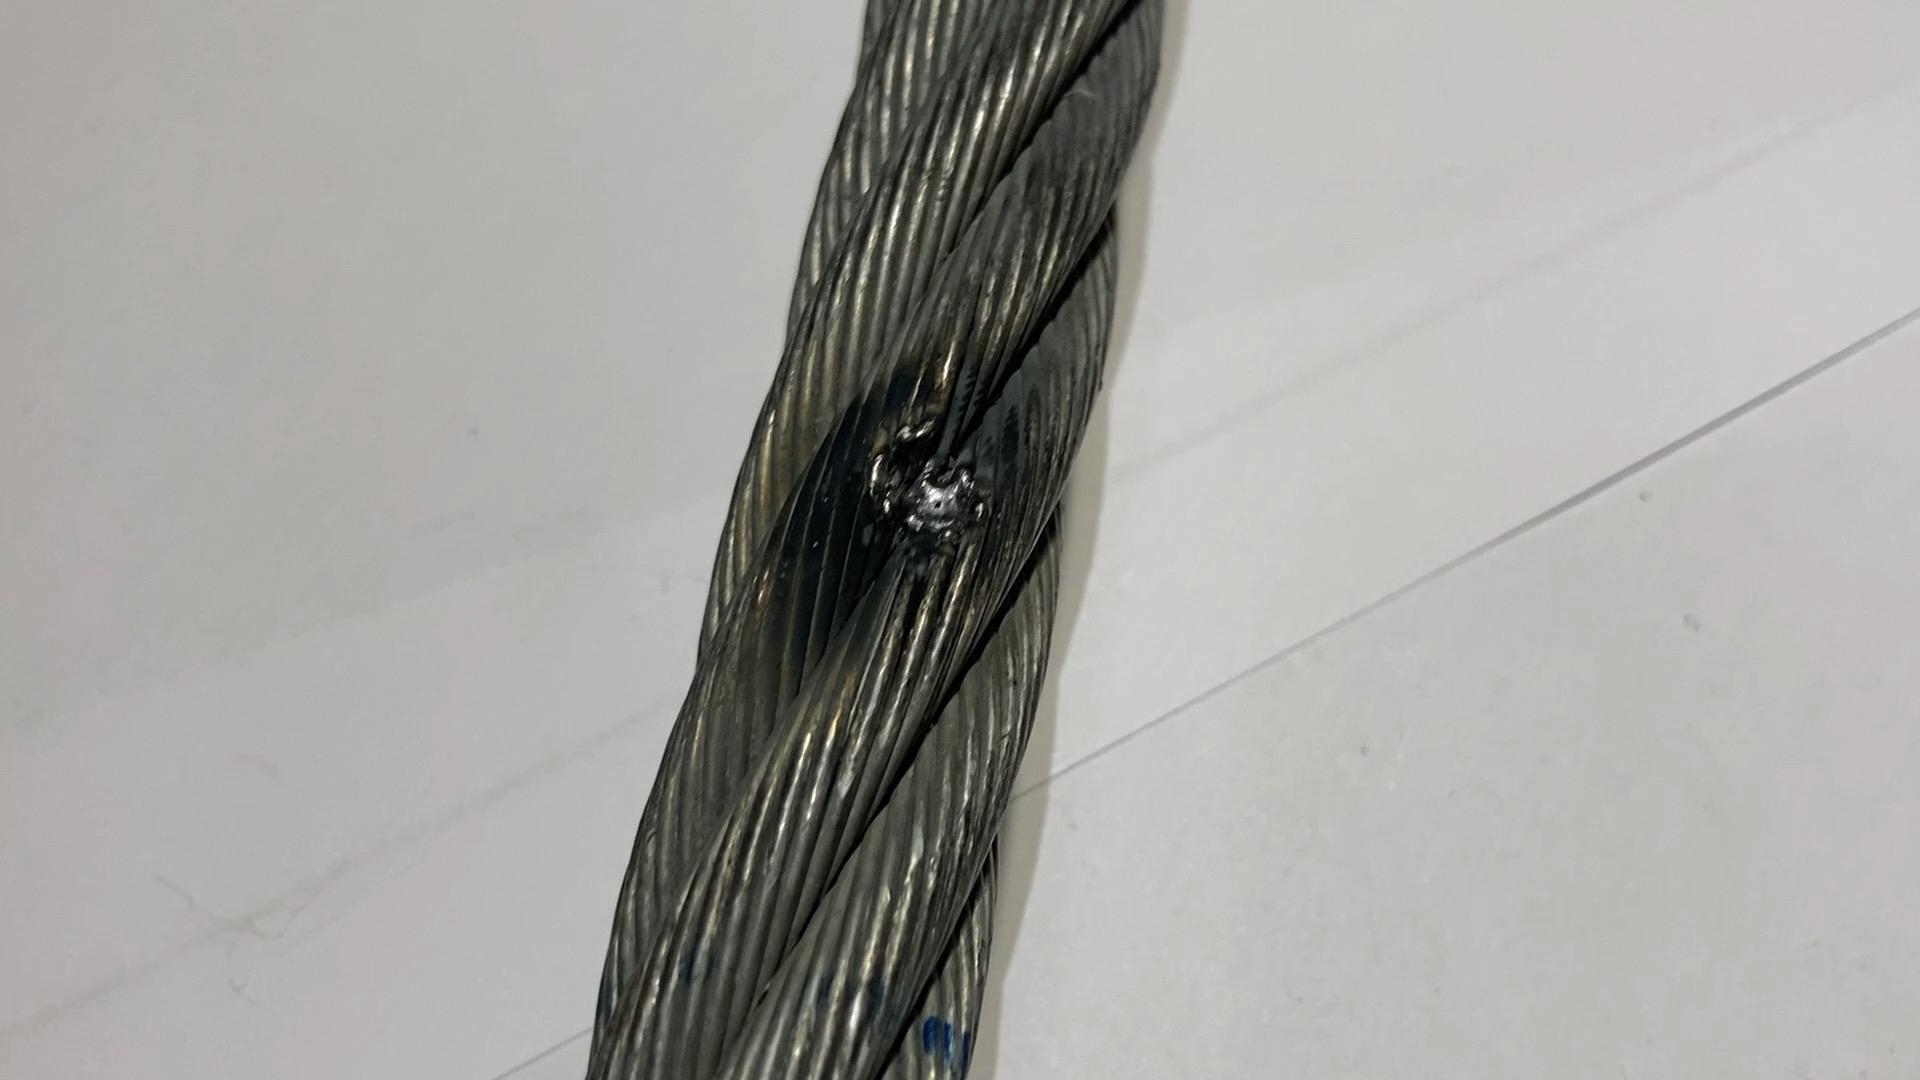thunderbolt: (845, 371, 1027, 563)
